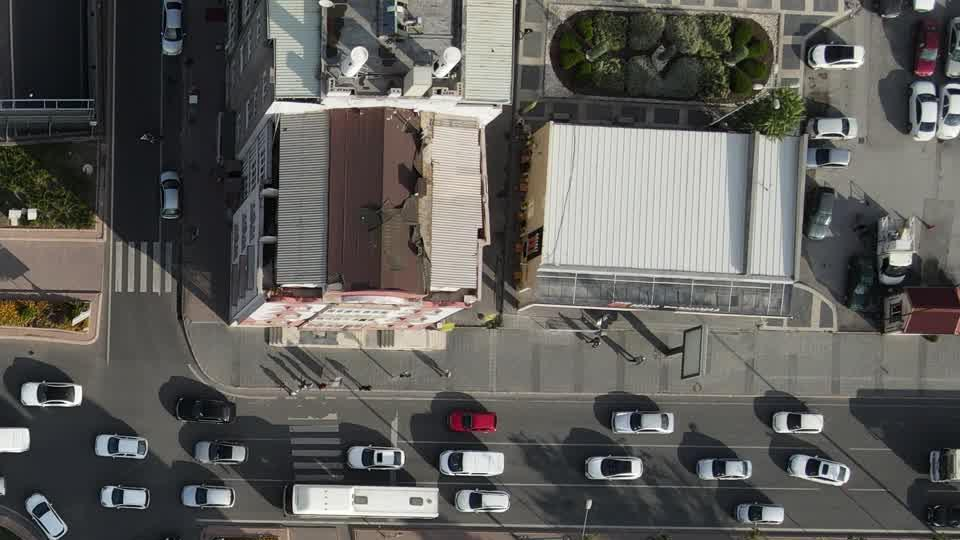bus: (280, 480, 439, 521), (927, 447, 960, 484)
cars: (786, 453, 850, 487), (24, 492, 68, 540), (905, 81, 938, 141), (174, 394, 237, 425), (844, 253, 877, 310), (910, 18, 941, 77), (19, 380, 84, 408), (803, 186, 836, 240), (609, 409, 675, 435), (345, 443, 405, 471), (583, 454, 643, 481), (806, 43, 865, 70), (160, 0, 187, 57), (180, 483, 237, 510), (453, 488, 511, 514), (193, 439, 250, 465), (100, 483, 152, 511), (444, 408, 498, 434), (93, 434, 149, 459), (695, 457, 753, 481), (937, 81, 960, 140), (159, 169, 184, 220), (771, 411, 824, 435), (805, 117, 859, 140), (735, 502, 784, 526), (806, 145, 852, 169), (943, 15, 960, 78), (926, 501, 960, 529), (874, 0, 906, 19), (912, 0, 936, 13), (0, 474, 7, 501), (156, 534, 185, 540)
truck: (877, 214, 917, 286)
van: (438, 449, 505, 477), (0, 424, 32, 454)
